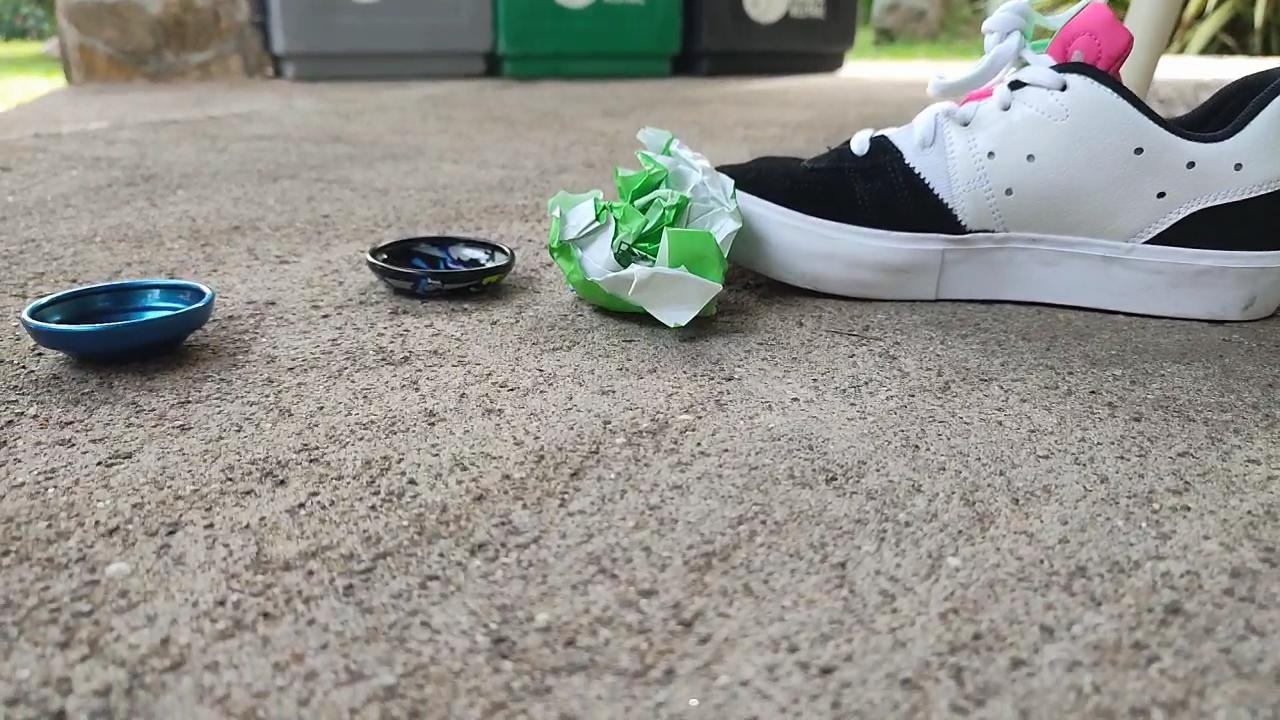Paper: (531, 122, 748, 344)
